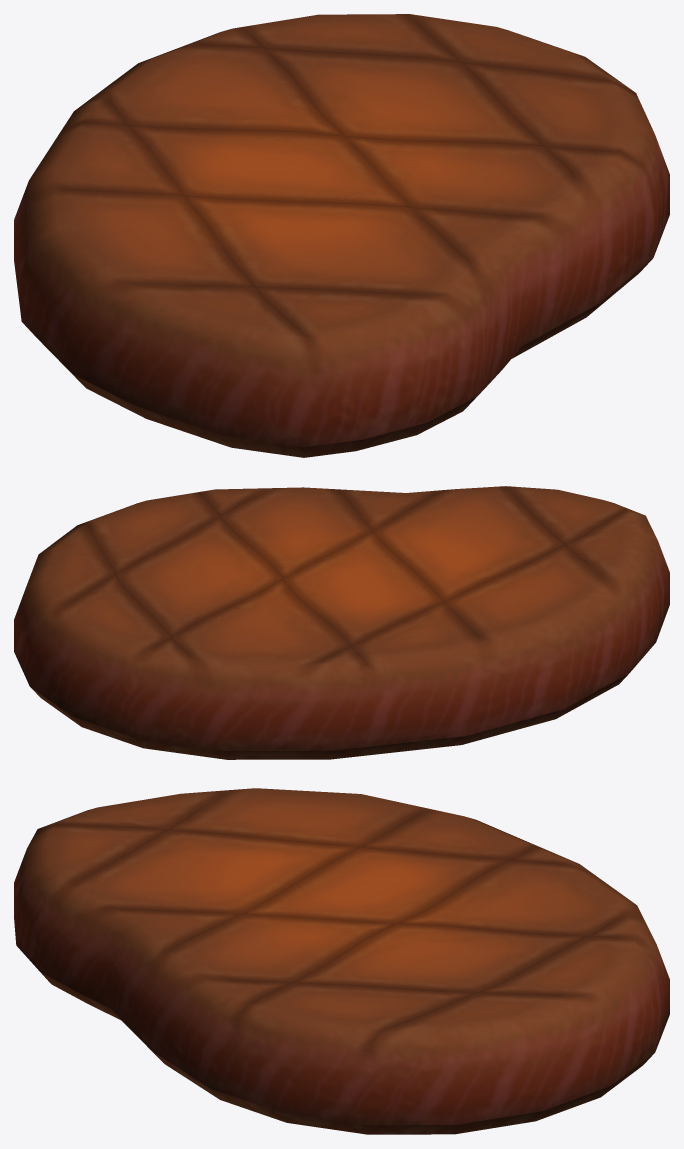
The model's file is Steak.fbx.
The picture shows the model from 3 angles, top to bottom: view 1: azimuth 30°, elevation 25°; view 2: azimuth 150°, elevation 25°; view 3: azimuth 270°, elevation 25°; orthographic projection. The views are drawn at different scales.
Parts seen in each view (by area): view 1: Steak_1; view 2: Steak_1; view 3: Steak_1.
Part boxes in pixels (bbox=[...]): Steak_1: bbox=[14, 14, 669, 457]; Steak_1: bbox=[14, 486, 669, 759]; Steak_1: bbox=[14, 788, 669, 1134].
Bounding box in the file's own units: 52.77 × 8.6 × 53.94.
Materials: 1 (1 with a texture image).
